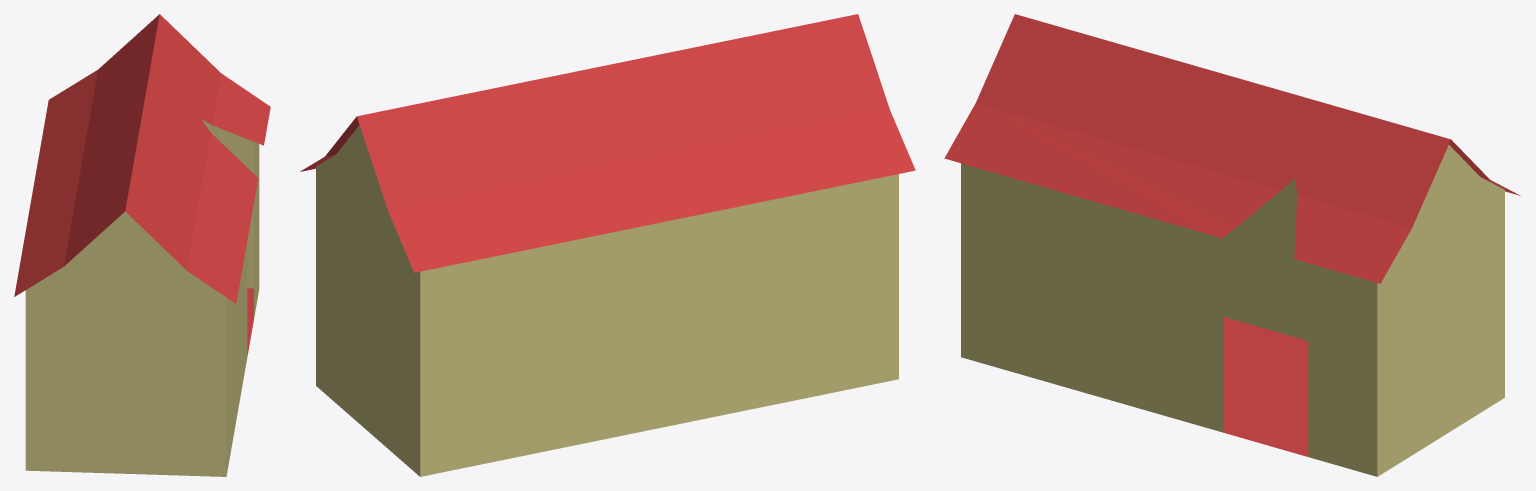
3 renders of one model, left to right at view 1: azimuth 30°, elevation 25°; view 2: azimuth 150°, elevation 25°; view 3: azimuth 270°, elevation 25°, orthographic. The views are drawn at different scales.
Size of the model in its own units: 21.1 by 24.16 by 13.89.
